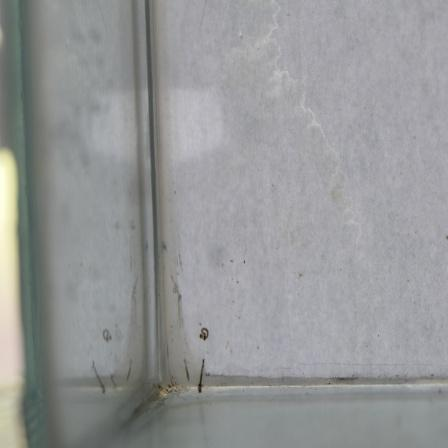Jentik-Nyamuk: (195, 353, 208, 398), (194, 323, 211, 345)
